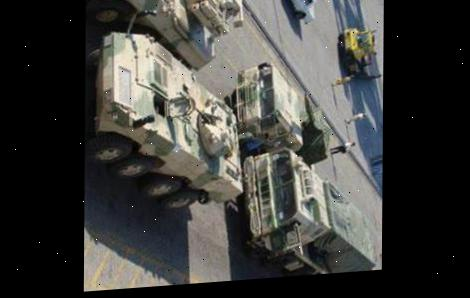armored_car: (90, 21, 249, 220), (91, 0, 236, 74)
truck: (237, 141, 382, 280)
